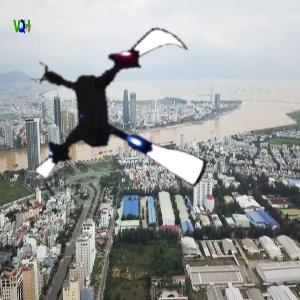drone: (19, 16, 228, 225)
